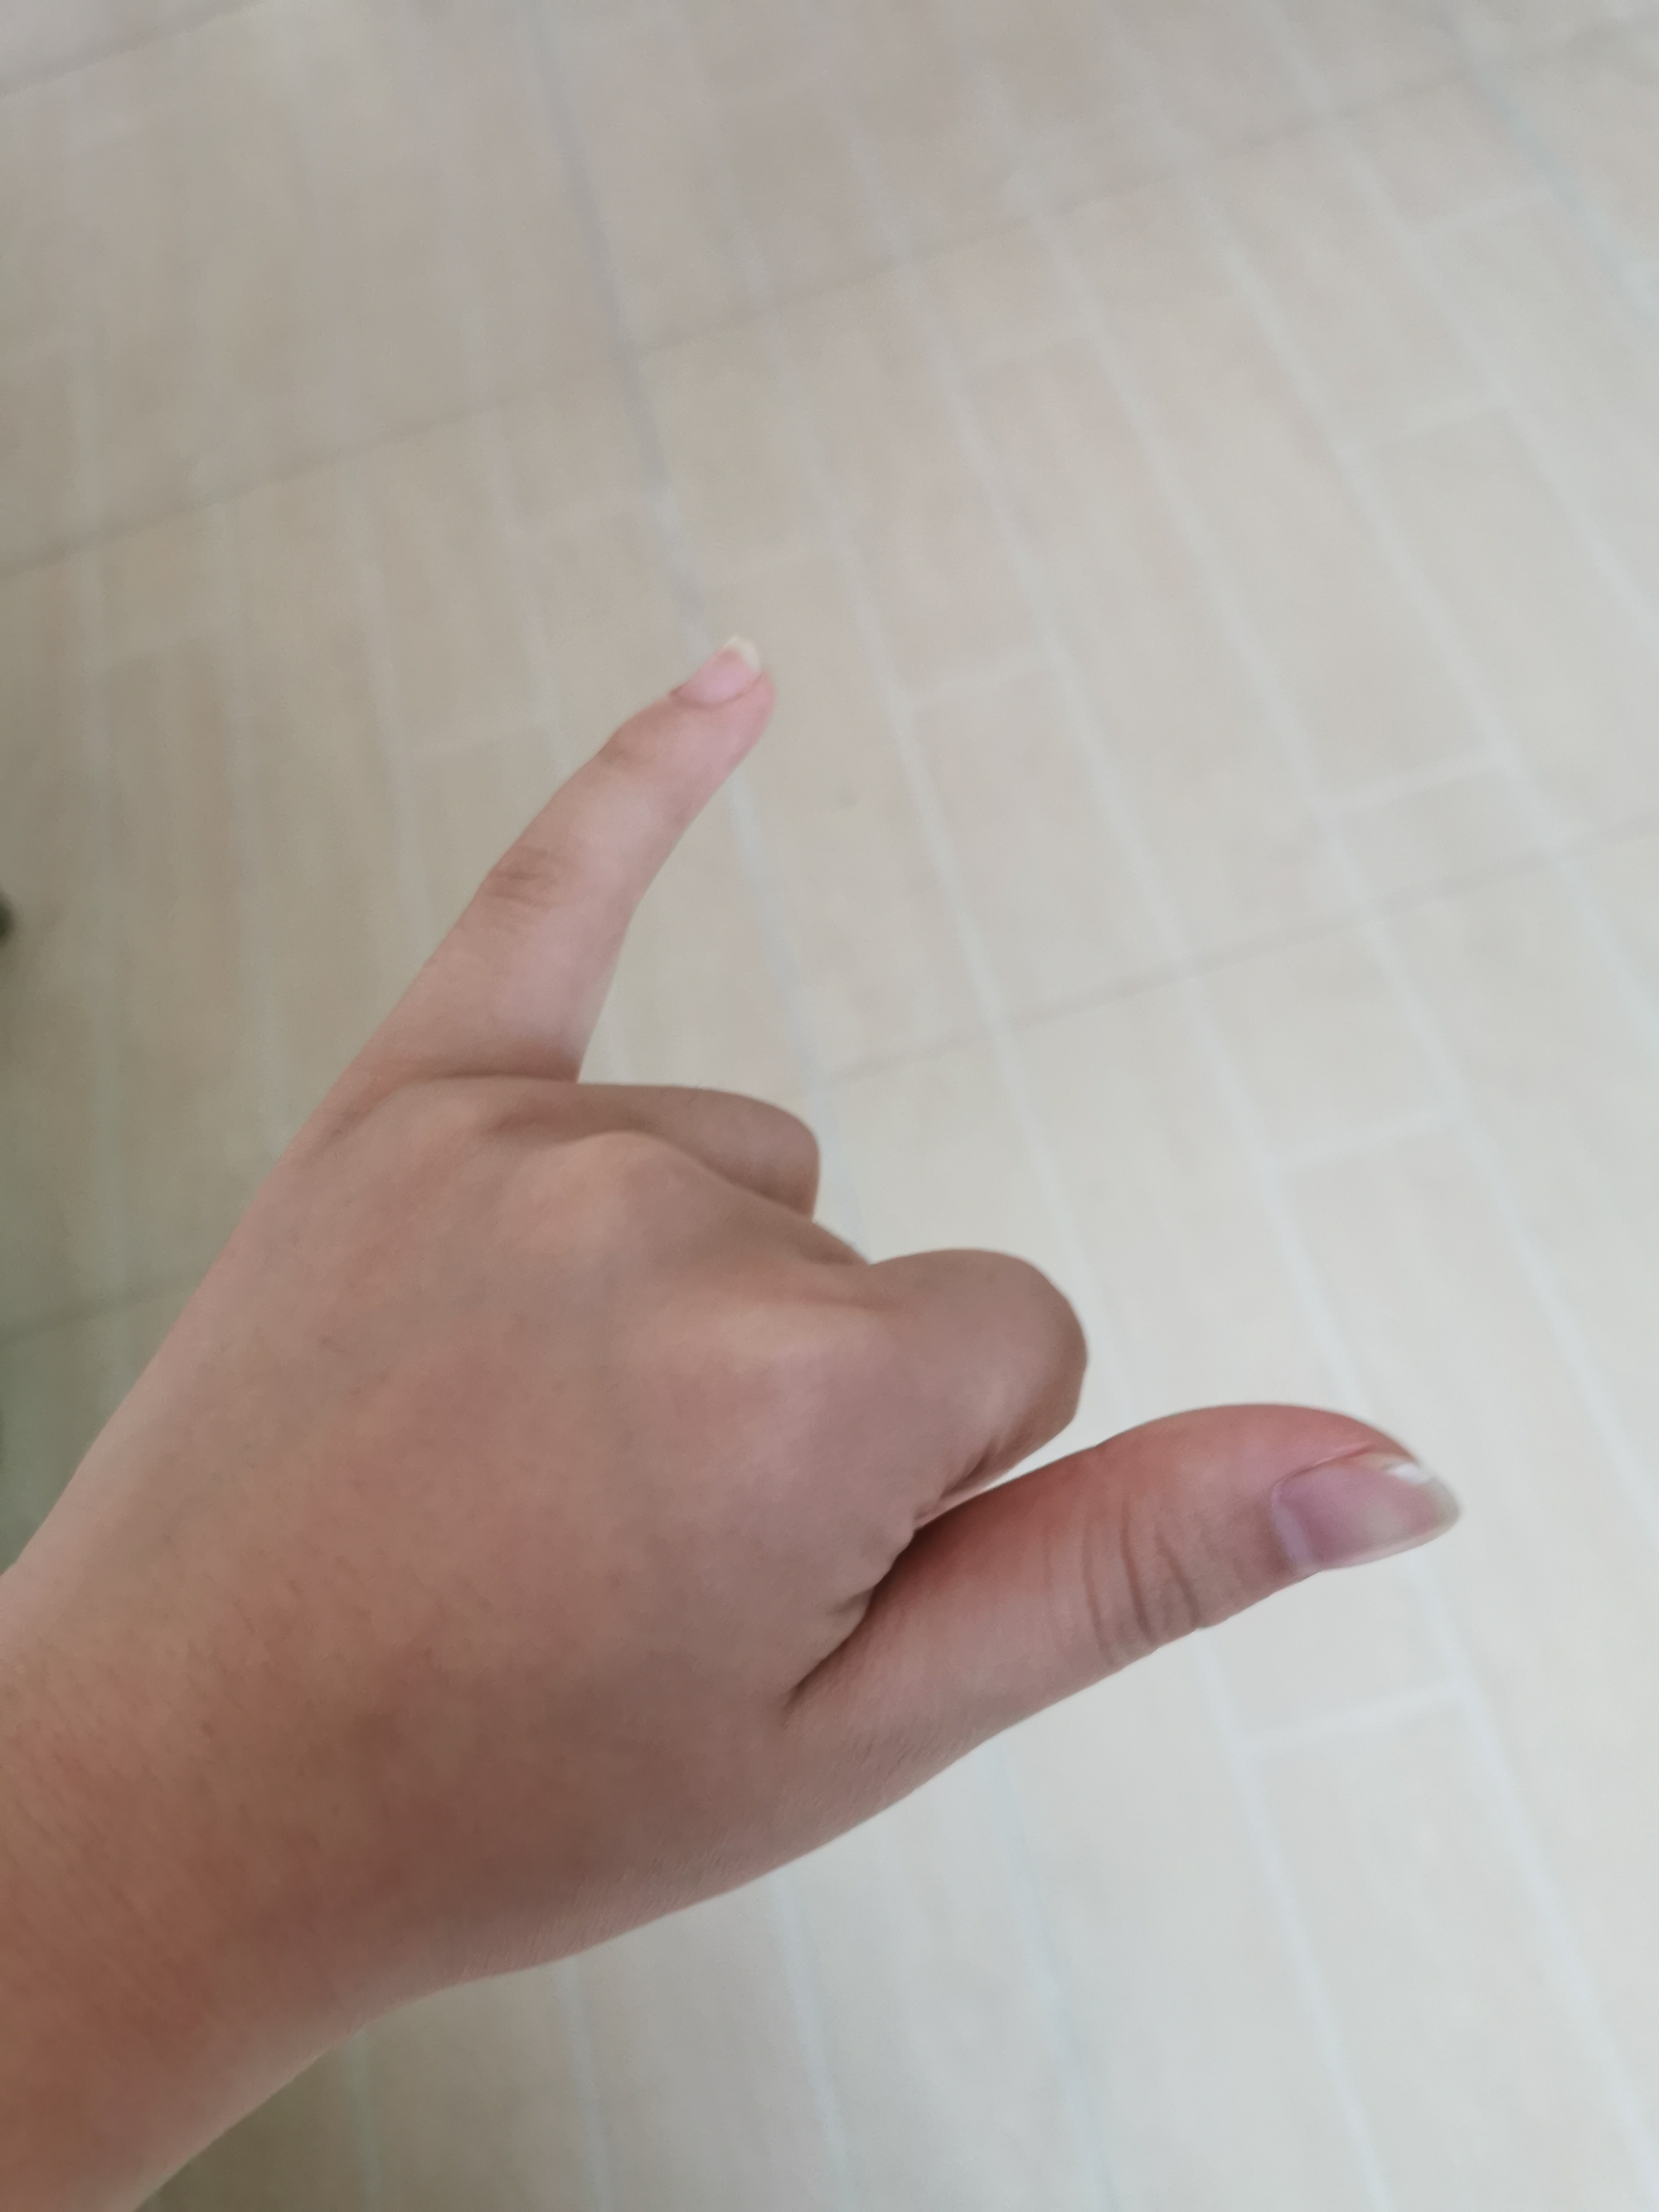clockwise: (89, 624, 1476, 1933)
